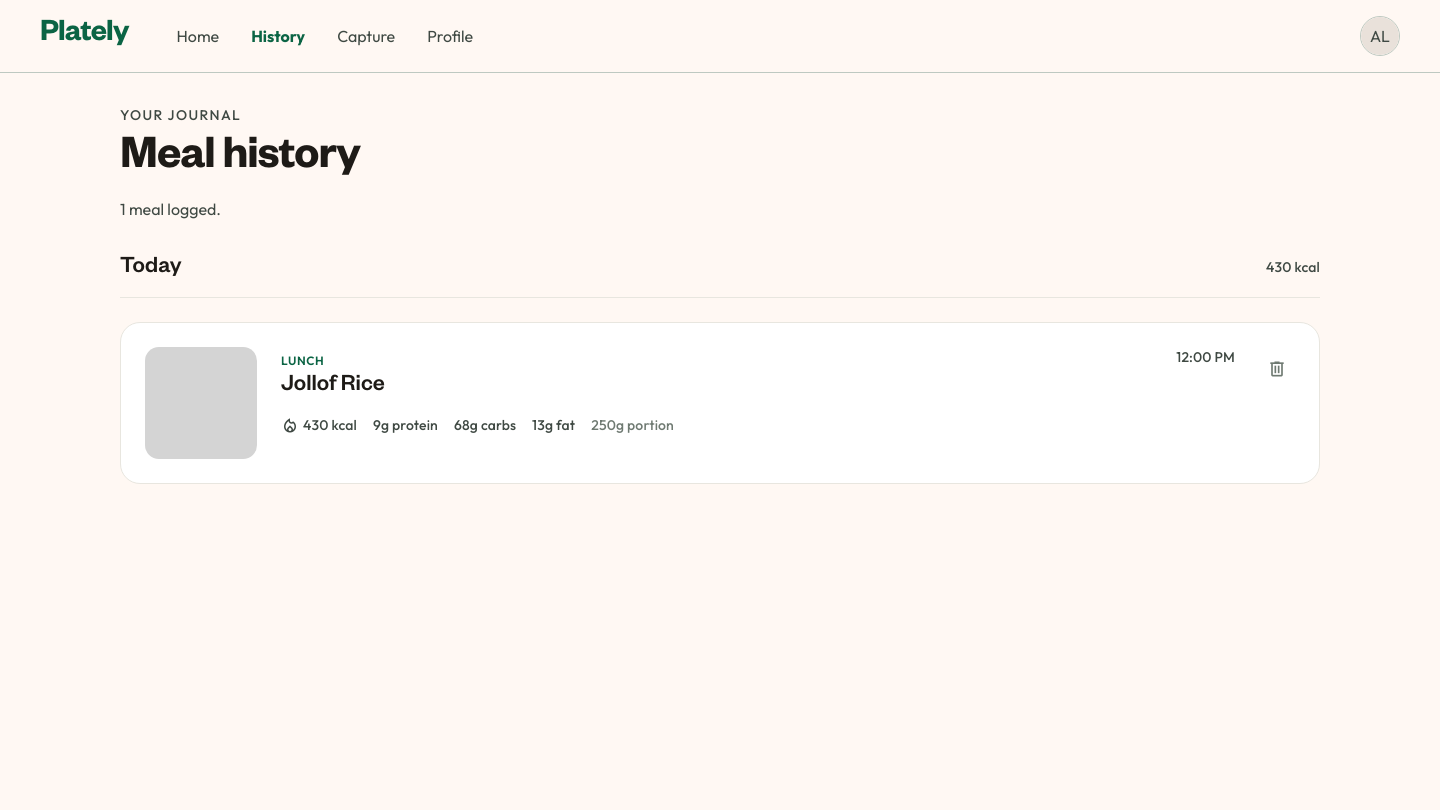
Test case: MealHistory › deletes a meal and refreshes the list
The width and height of the screenshot is (1440, 810).
Click the button named "Delete Jollof Rice". click: (1277, 367)
box: [1259,347,1295,387]
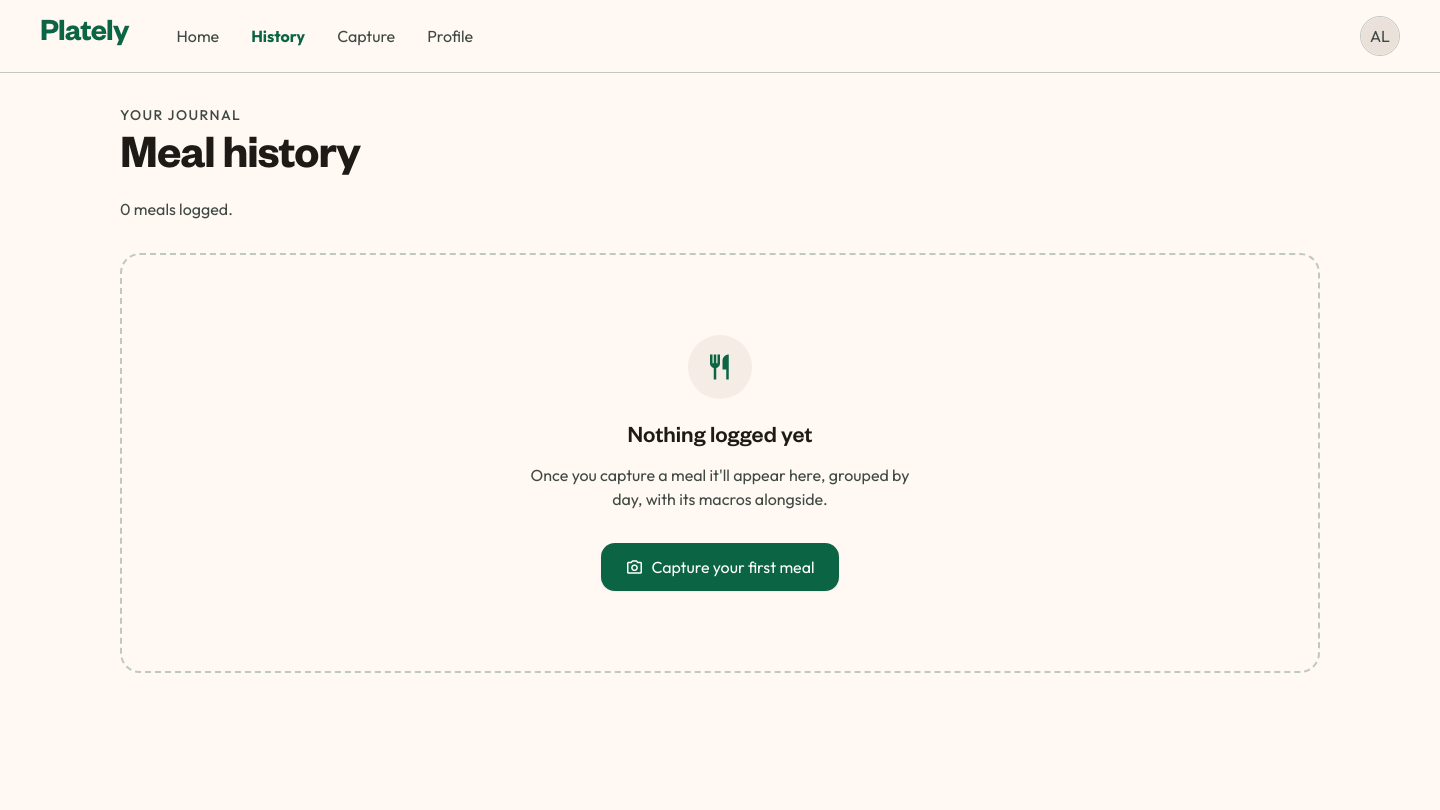
Check: the heading "Nothing logged yet" is shown, box [628,423,812,455]
